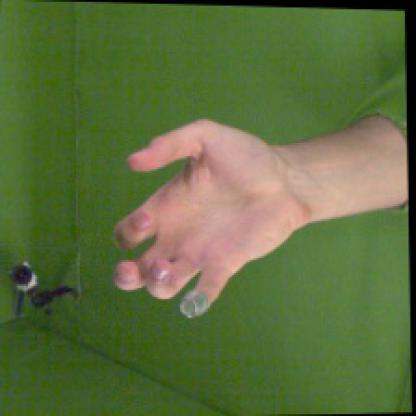Hand: (112, 118, 292, 318)
